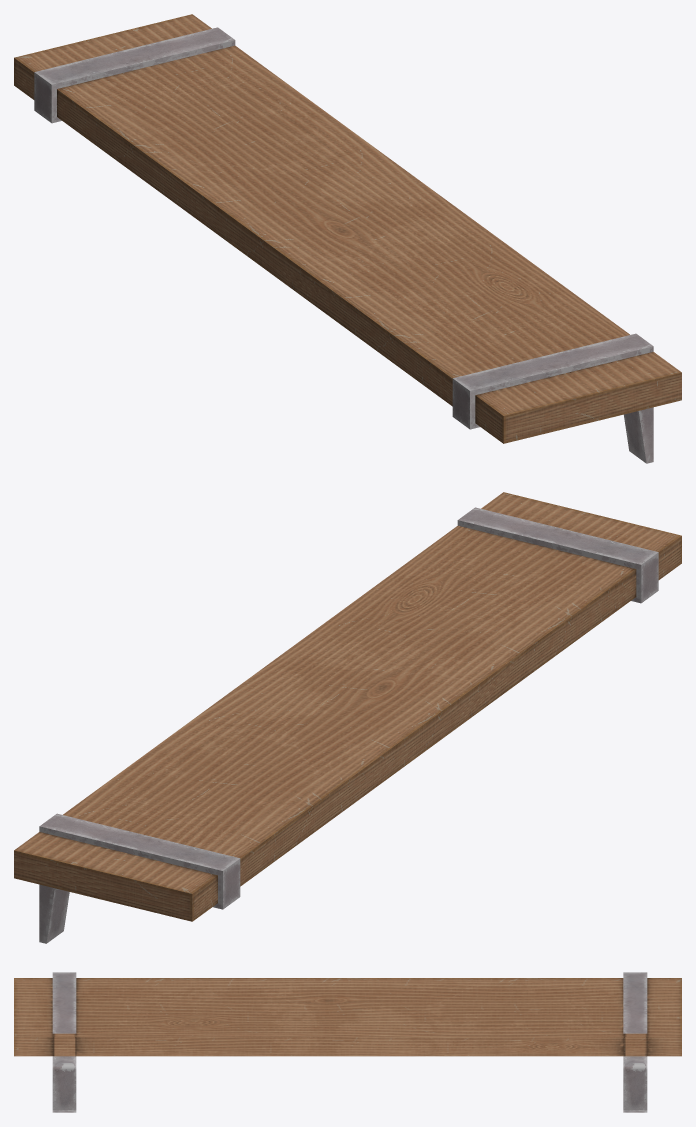
Rendered from SM_Shelf.fbx.
3 views of the same model, one above another, from view 1: azimuth 30°, elevation 25°; view 2: azimuth 150°, elevation 25°; view 3: azimuth 270°, elevation 25° (orthographic). The views are drawn at different scales.
Parts seen in each view (by area): view 1: SM_Shelf_LOD0; view 2: SM_Shelf_LOD0; view 3: SM_Shelf_LOD0.
Part boxes in pixels (bbox=[...]): SM_Shelf_LOD0: bbox=[14, 14, 681, 463]; SM_Shelf_LOD0: bbox=[14, 492, 681, 943]; SM_Shelf_LOD0: bbox=[14, 972, 681, 1112].
Size of the model in its own units: 21.61 by 99.87 by 13.04.
Materials: 1 (1 with a texture image).
